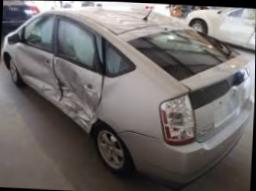Door: (54, 15, 104, 124)
